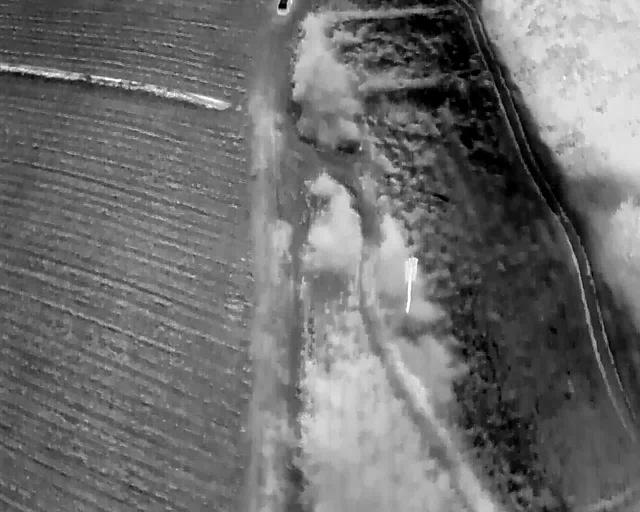car: (275, 0, 291, 15)
